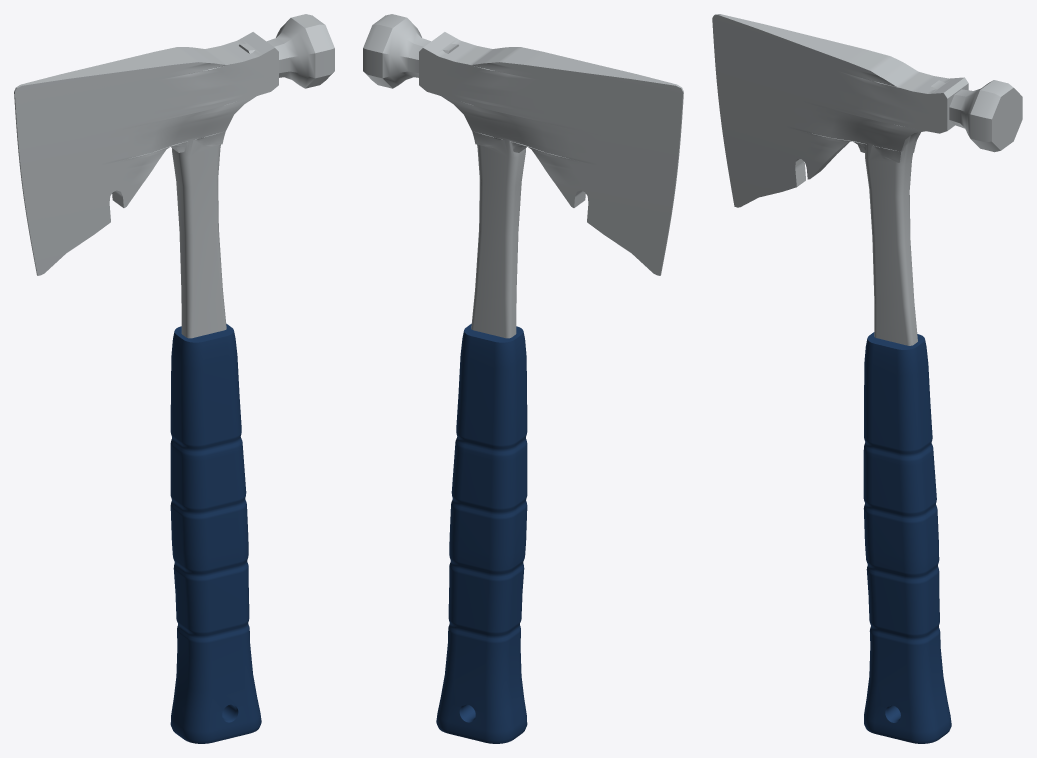
3 views of the same model, side by side, from view 1: azimuth 30°, elevation 25°; view 2: azimuth 150°, elevation 25°; view 3: azimuth 330°, elevation 25° (orthographic). The views are drawn at different scales.
Visible parts, largest first — view 1: Forged body, Molded grip; view 2: Forged body, Molded grip; view 3: Forged body, Molded grip.
Part boxes in pixels (box(x1,y1,x2,y2)): Forged body: box(14, 14, 334, 338); Molded grip: box(170, 324, 261, 743); Forged body: box(363, 14, 683, 338); Molded grip: box(436, 324, 527, 743); Forged body: box(712, 14, 1022, 345); Molded grip: box(863, 332, 951, 743).
Bounding box in the file's own units: 0.122 × 0.264 × 0.024.
